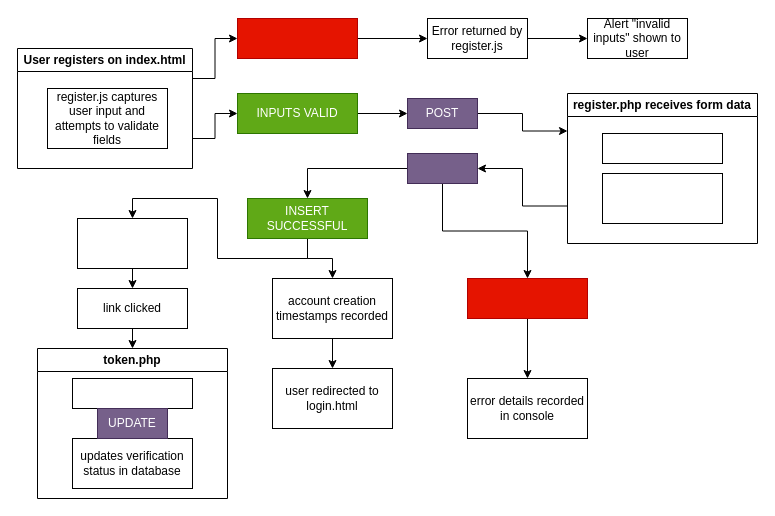
The diagram is 775 pixels wide and 516 high, and some of its shapes have lost their labels. Each missing label, with the centre of its shape:
attempt to insert user into database: pixel 662 198
hashes password: pixel 662 148
INPUTS INVALID: pixel 297 38
INSERT FAIL: pixel 527 298
INSERT TO: pixel 442 168
mail.php sends verification link: pixel 132 243
validates token: pixel 132 393
